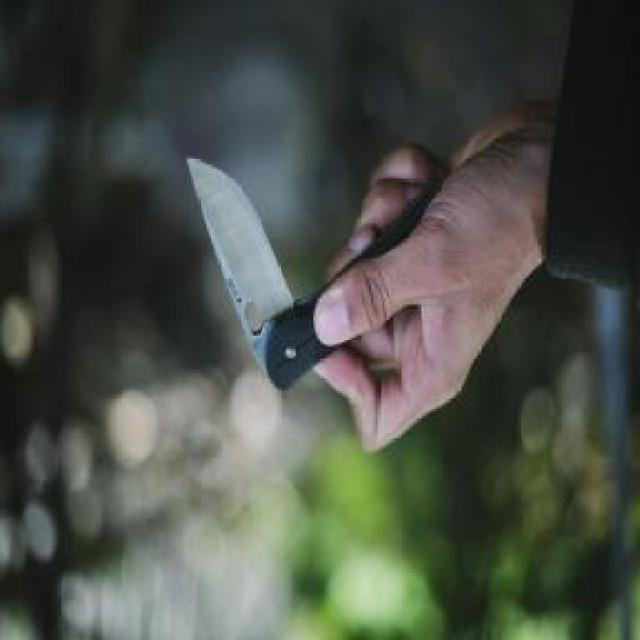knife: (176, 135, 380, 411)
